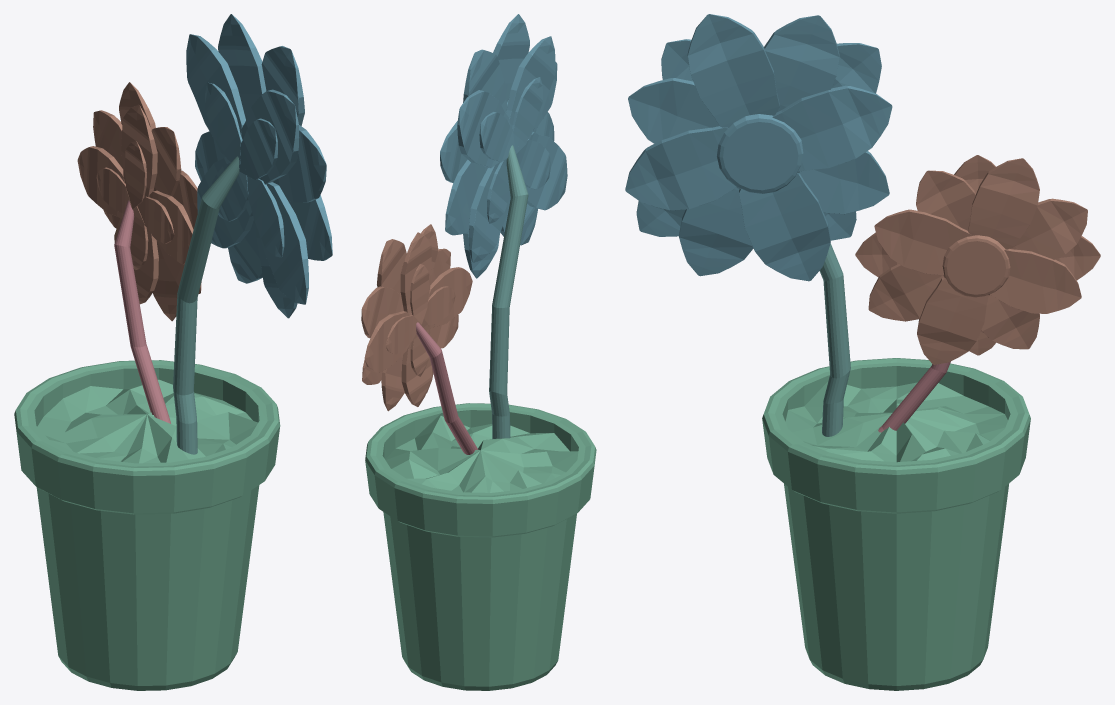
The model's file is 5c729845f27e_seg.glb.
The picture shows the model from 3 angles, left to right: view 1: azimuth 30°, elevation 25°; view 2: azimuth 150°, elevation 25°; view 3: azimuth 270°, elevation 25°; orthographic projection. The views are drawn at different scales.
Visible parts, largest first — view 1: p00, p01, p03, p02, p04; view 2: p00, p01, p03, p02, p04; view 3: p00, p01, p03, p02, p04.
Boxes of the visible parts, x1=… form: p00: x1=14, y1=360, x2=280, y2=690; p01: x1=186, y1=14, x2=332, y2=318; p03: x1=77, y1=82, x2=201, y2=321; p02: x1=173, y1=156, x2=239, y2=454; p04: x1=114, y1=200, x2=170, y2=423; p00: x1=365, y1=403, x2=596, y2=690; p01: x1=440, y1=14, x2=567, y2=278; p03: x1=361, y1=224, x2=472, y2=411; p02: x1=489, y1=145, x2=528, y2=439; p04: x1=416, y1=322, x2=478, y2=454; p00: x1=762, y1=358, x2=1030, y2=690; p01: x1=625, y1=14, x2=892, y2=281; p03: x1=855, y1=155, x2=1100, y2=364; p02: x1=819, y1=243, x2=850, y2=436; p04: x1=878, y1=361, x2=950, y2=432.
Bounding box in the file's own units: 0.6943 × 1.9 × 1.23.
